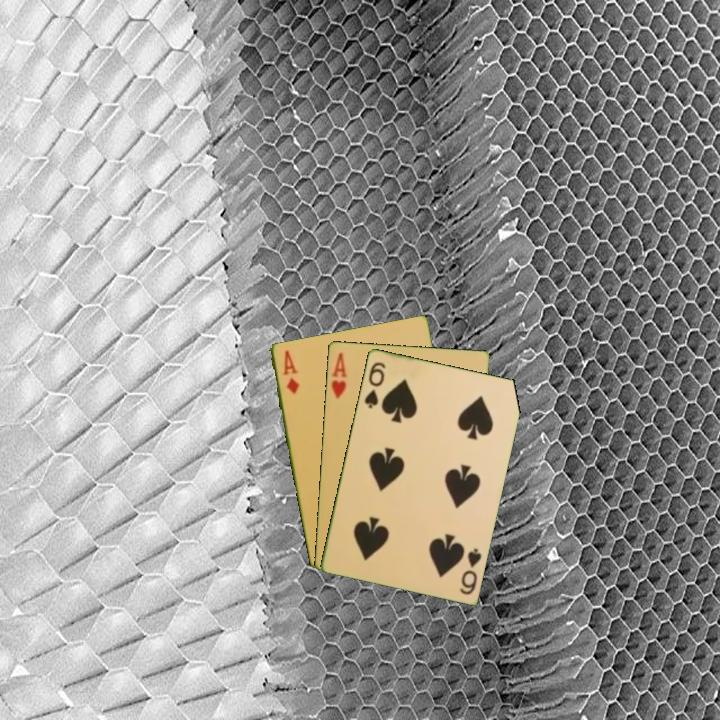6s: (456, 544, 484, 597), (361, 358, 388, 411)
Ad: (279, 346, 302, 397)
Ah: (327, 349, 350, 402)
